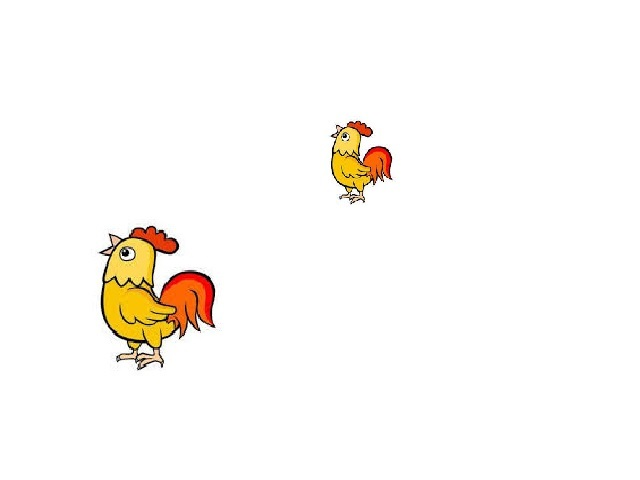crown: (134, 226, 177, 258), (349, 123, 374, 135)
eyes: (118, 247, 137, 263), (342, 132, 350, 140)
feet: (117, 352, 167, 376), (341, 192, 370, 209)
tail: (159, 272, 216, 334), (364, 149, 400, 183)
